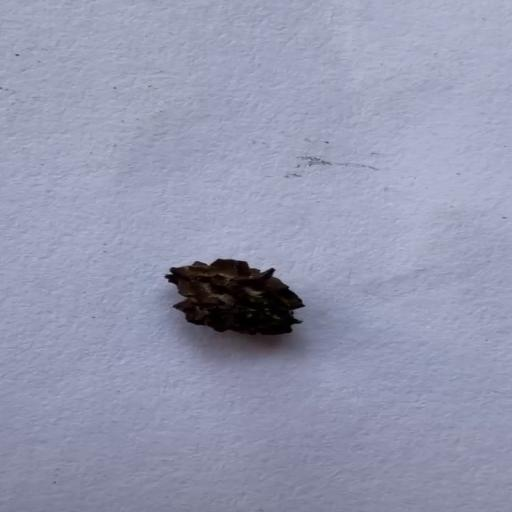papaya_seed: (156, 254, 317, 345)
